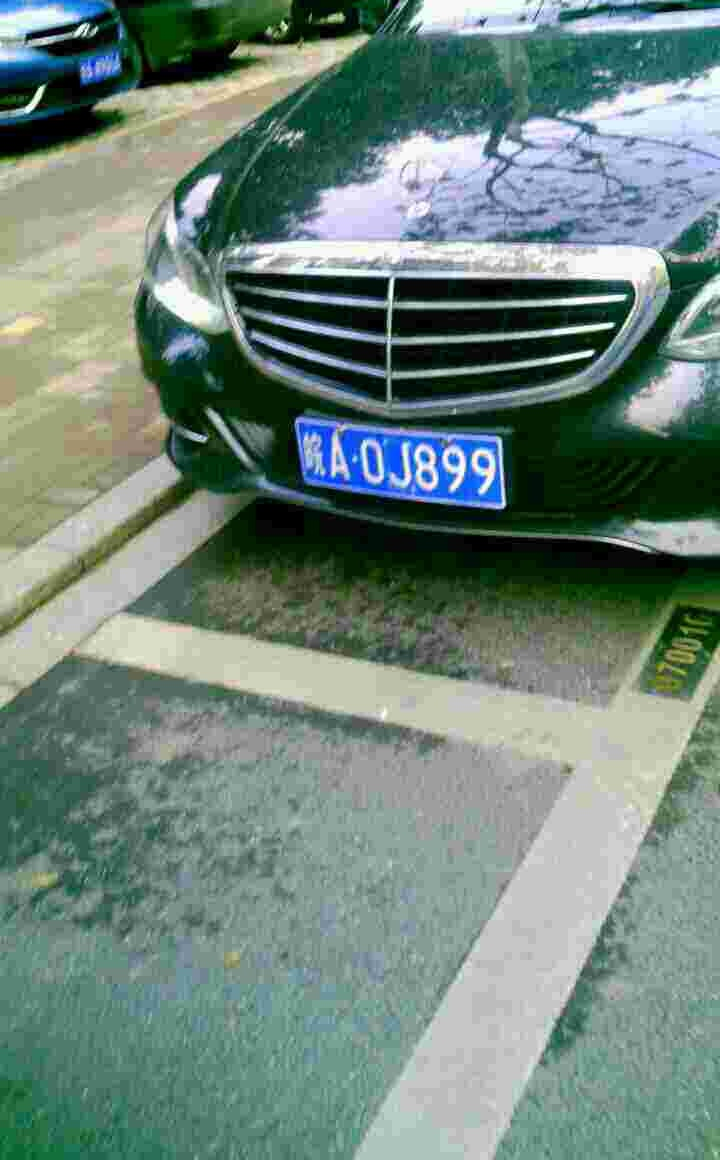plate: (289, 413, 509, 514)
